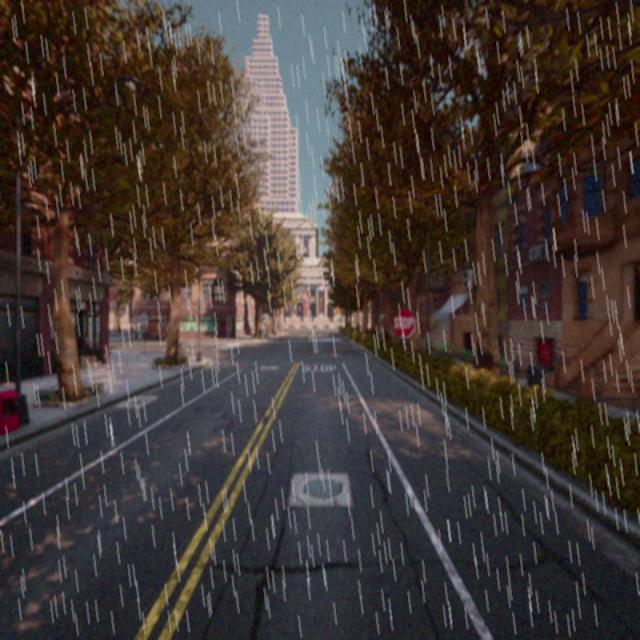stop sign: (390, 305, 418, 341)
